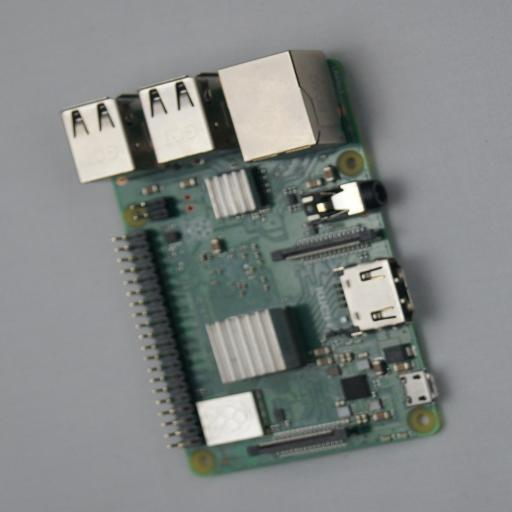Raspberry Pi 3 B-: (72, 50, 450, 476)
